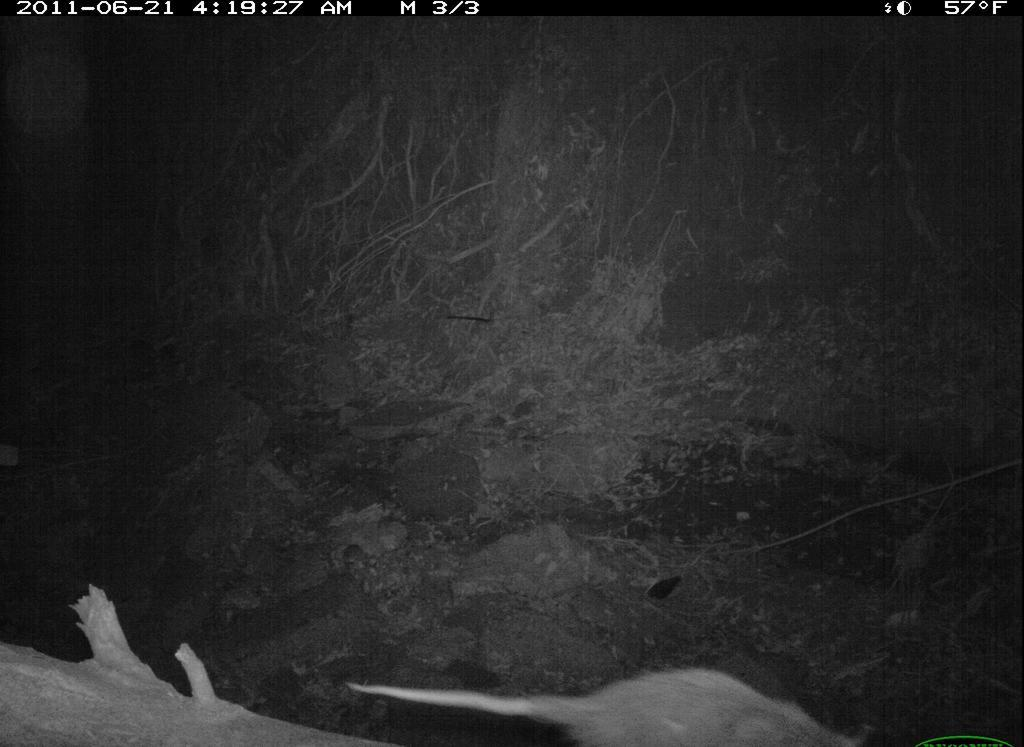opossum: (344, 639, 879, 744)
